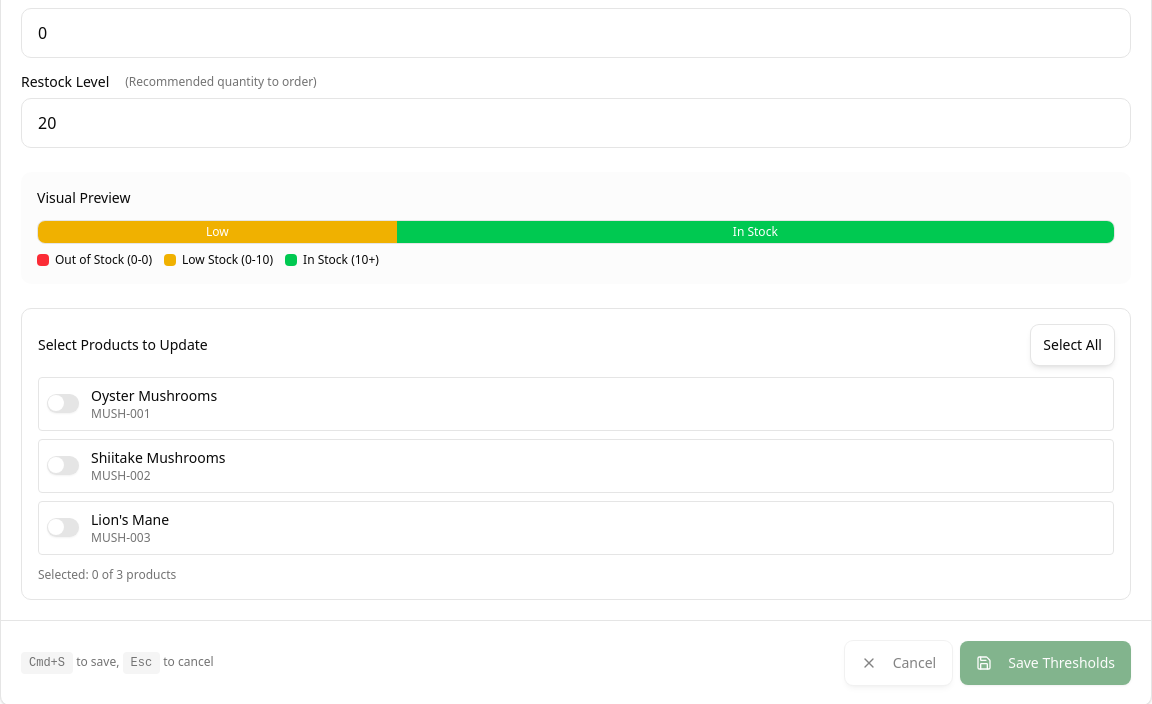
it: ThresholdSettings Component › Bulk Mode › should select all products with Select All button
This screenshot has width=1152, height=704.
(page scrolled)
Click the button "Select All".
click(1073, 344)  # box [1031,324,1114,364]
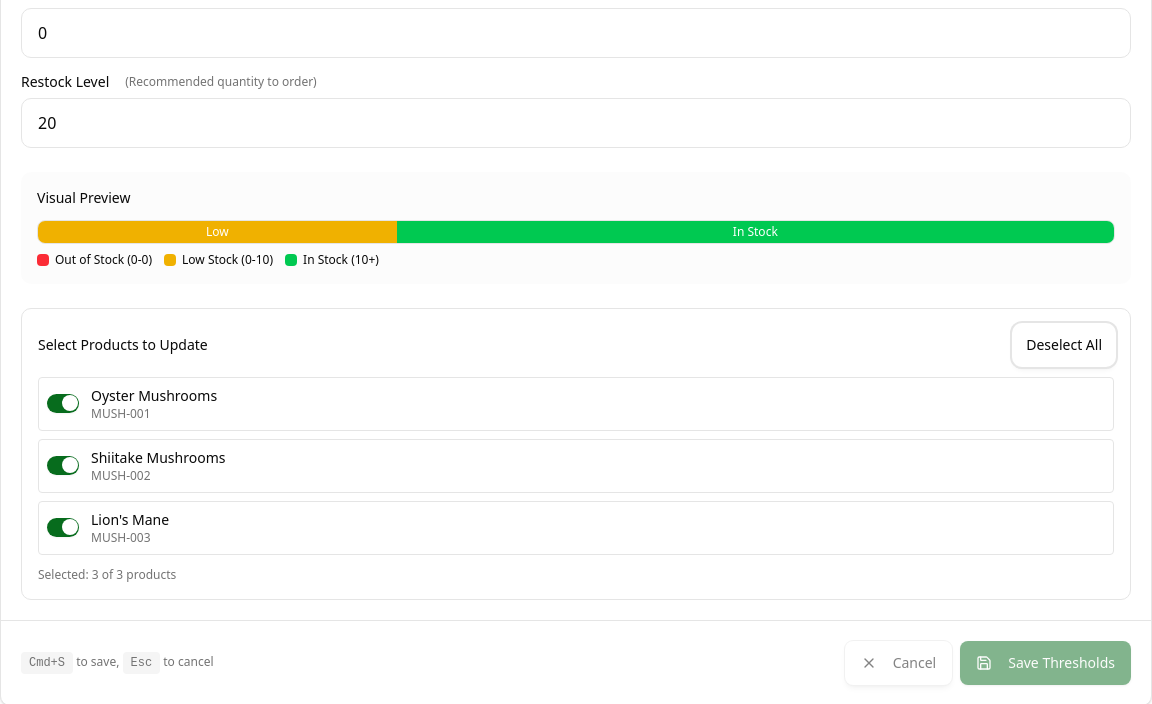
Now the text "Selected: 3 of 3 products" is shown, box [38,566,176,582]
